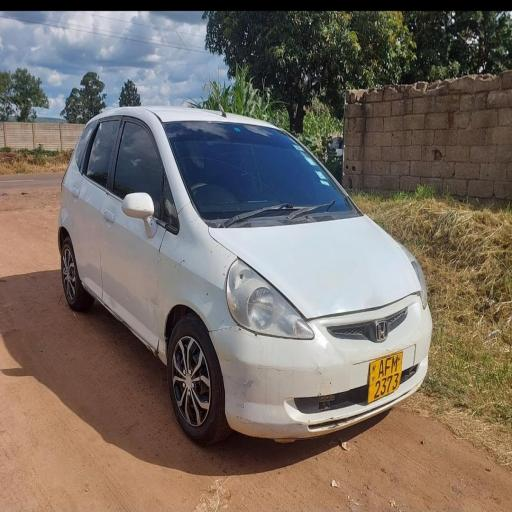number-plates: (367, 352, 403, 398)
